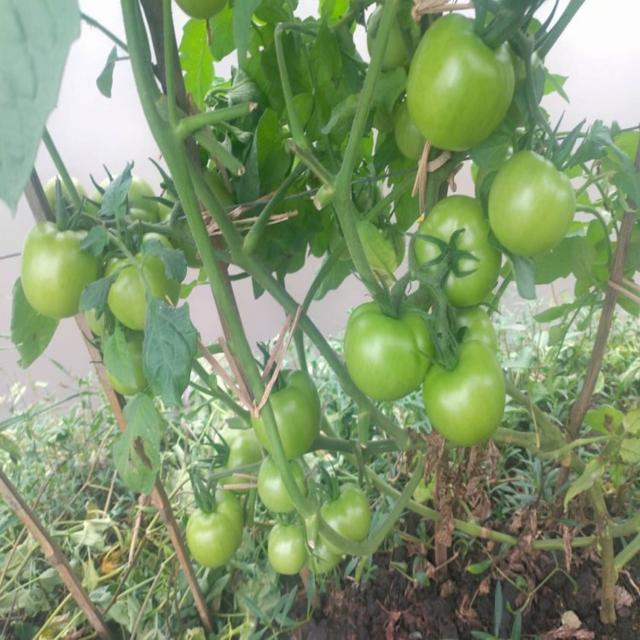tomato: (406, 16, 521, 148), (432, 313, 510, 448), (415, 194, 502, 312), (489, 152, 581, 255), (344, 299, 429, 406), (22, 219, 97, 323), (109, 230, 187, 329), (254, 370, 322, 456), (186, 488, 245, 565), (311, 481, 370, 546), (95, 178, 157, 237), (258, 521, 311, 575), (256, 458, 305, 513), (39, 177, 86, 225), (368, 13, 405, 72), (395, 97, 428, 160), (212, 425, 254, 473), (175, 1, 236, 24), (307, 542, 347, 575)
